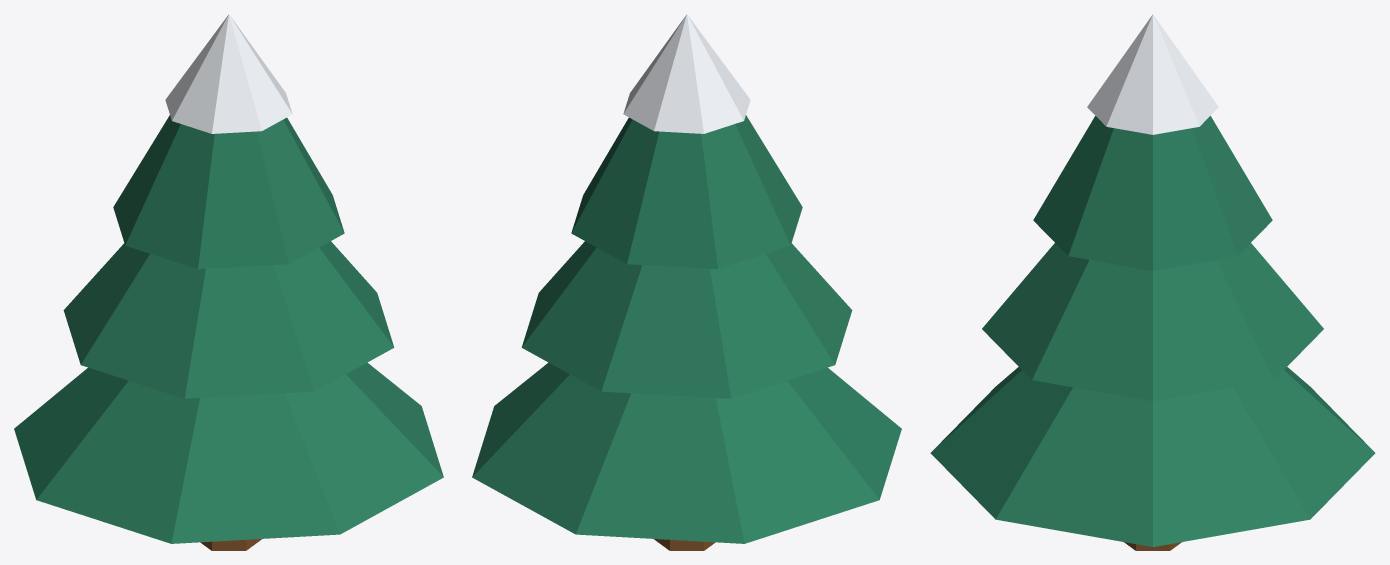
Rendered from SnowPine.fbx.
The picture shows the model from 3 angles, left to right: view 1: azimuth 30°, elevation 25°; view 2: azimuth 150°, elevation 25°; view 3: azimuth 270°, elevation 25°; orthographic projection.
Visible parts, largest first — view 1: Pine, Snow, Wood; view 2: Pine, Snow, Wood; view 3: Pine, Snow.
Boxes of the visible parts, bbox=[...] form: Pine: bbox=[14, 115, 443, 543]; Snow: bbox=[165, 14, 292, 133]; Wood: bbox=[200, 539, 261, 550]; Pine: bbox=[472, 115, 901, 543]; Snow: bbox=[623, 14, 750, 133]; Wood: bbox=[654, 539, 715, 550]; Pine: bbox=[930, 116, 1375, 546]; Snow: bbox=[1087, 14, 1218, 134].
Size of the model in its own units: 2.6 by 3.38 by 2.6.
